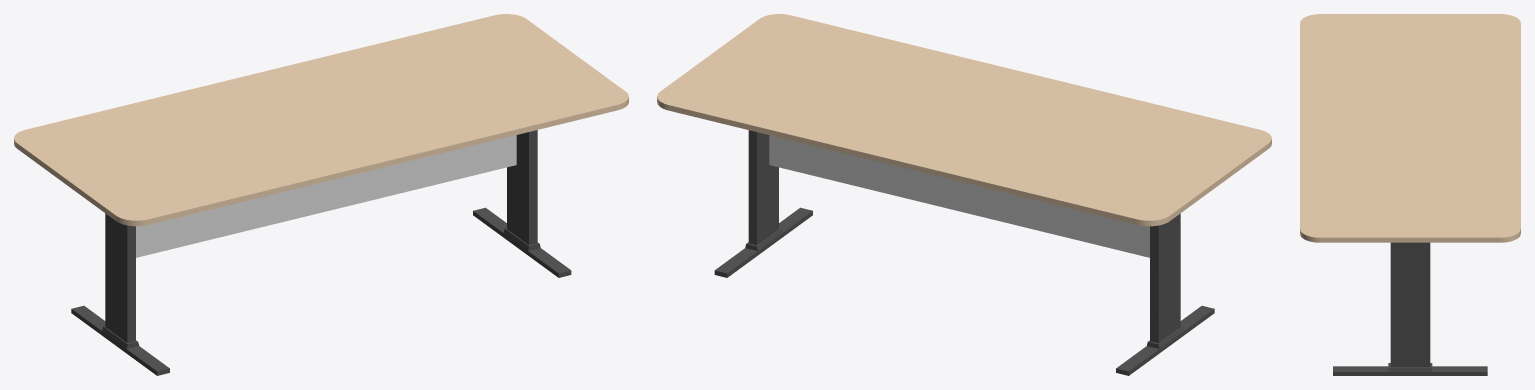
Rendered from tableCurved.gltf.
The picture shows the model from 3 angles, left to right: view 1: azimuth 30°, elevation 25°; view 2: azimuth 150°, elevation 25°; view 3: azimuth 270°, elevation 25°; orthographic projection. The views are drawn at different scales.
Parts seen in each view (by area): view 1: TableTop, MidPartition, TableLeg (×2); view 2: TableTop, MidPartition, TableLeg (×2); view 3: TableTop, TableLeg.
Boxes of the visible parts, x1,y1,x2,y2 form: TableTop: [14, 14, 628, 226]; MidPartition: [136, 135, 516, 257]; TableLeg (×2): [71, 130, 571, 375]; TableTop: [657, 14, 1271, 226]; MidPartition: [769, 135, 1149, 257]; TableLeg (×2): [714, 130, 1214, 375]; TableTop: [1300, 14, 1520, 242]; TableLeg: [1333, 242, 1487, 375].
Size of the model in its own units: 2.4 by 0.7954 by 1.
Materials: 3 (3 with a texture image).
